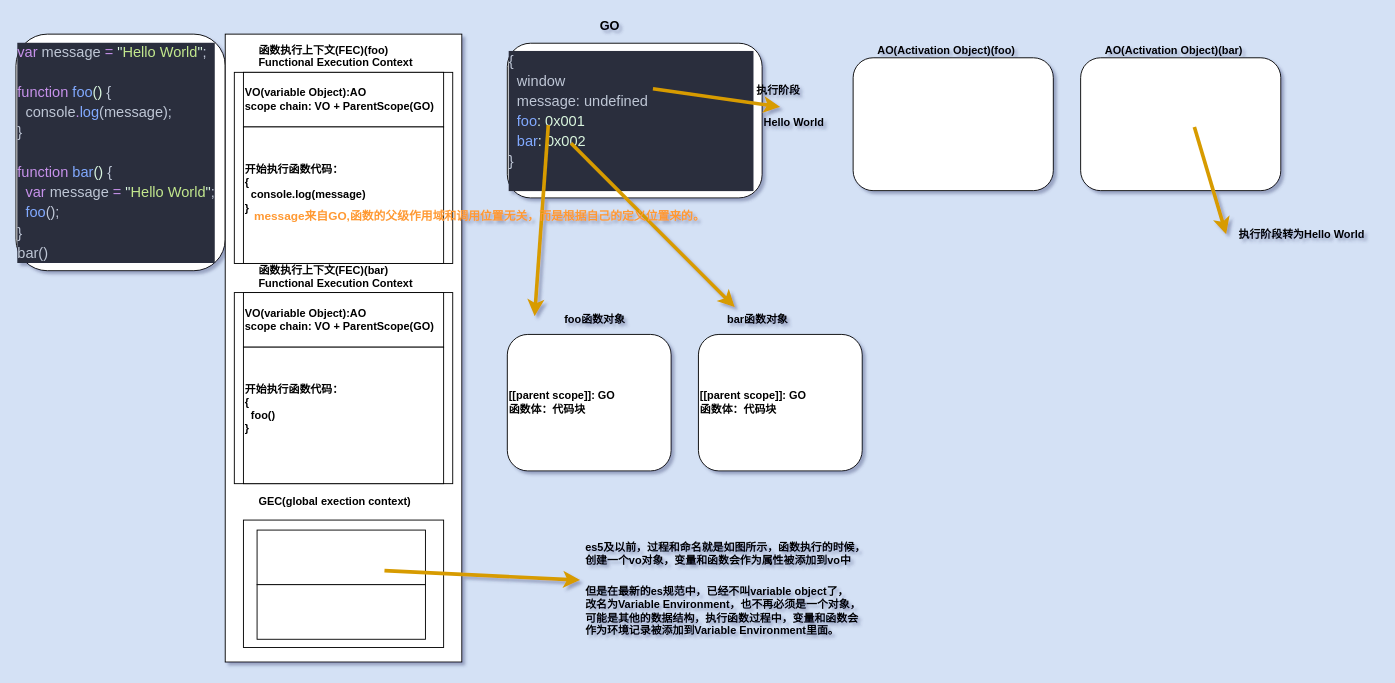
This 1395x683 diagram has some shape labels left out. Here are the shapes that lost their labels. From the top down, the box of each, then its label:
(852, 57, 1053, 191): { 无 }
(1080, 57, 1281, 191): { message: undefined }
(256, 529, 425, 585): VO(variable Object):GO
(256, 584, 425, 639): 开始执行代码 { bar() }
